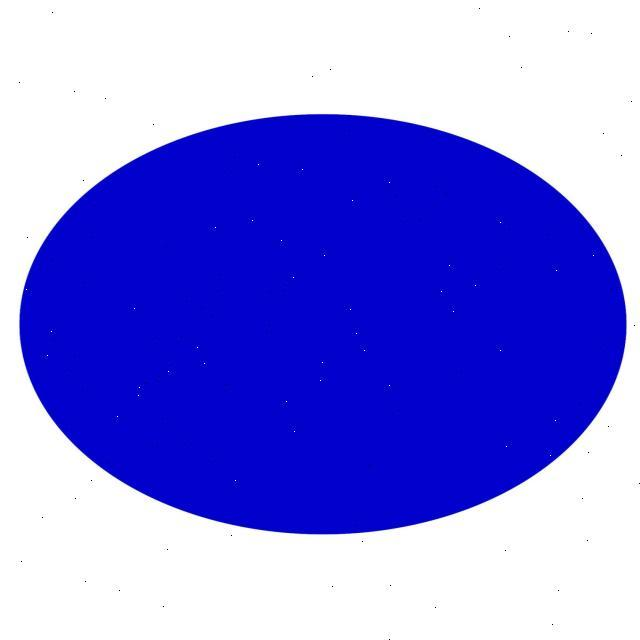Circle: (22, 115, 626, 534)
